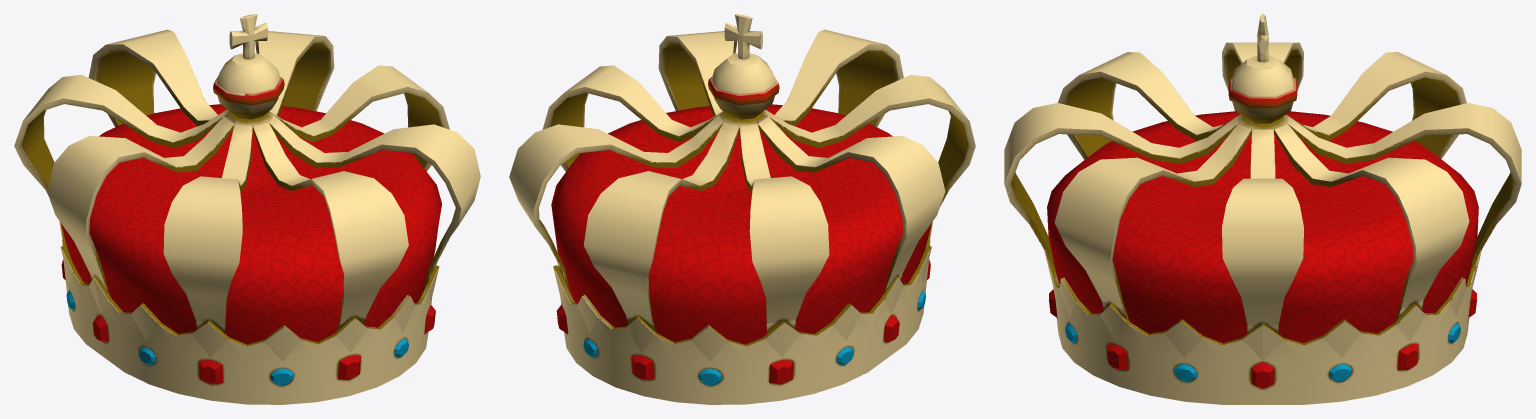
Rendered from crown.gltf.
3 renders of one model, left to right at view 1: azimuth 30°, elevation 25°; view 2: azimuth 150°, elevation 25°; view 3: azimuth 270°, elevation 25°, orthographic. The views are drawn at different scales.
Parts seen in each view (by area): view 1: crown; view 2: crown; view 3: crown.
Part boxes in pixels (box(x1,y1,x2,y2)): crown: box(14, 14, 480, 404); crown: box(509, 14, 975, 404); crown: box(1004, 14, 1521, 404).
Bounding box in the file's own units: 0.4056 × 0.3268 × 0.4864.
1 material, 1 textured.
